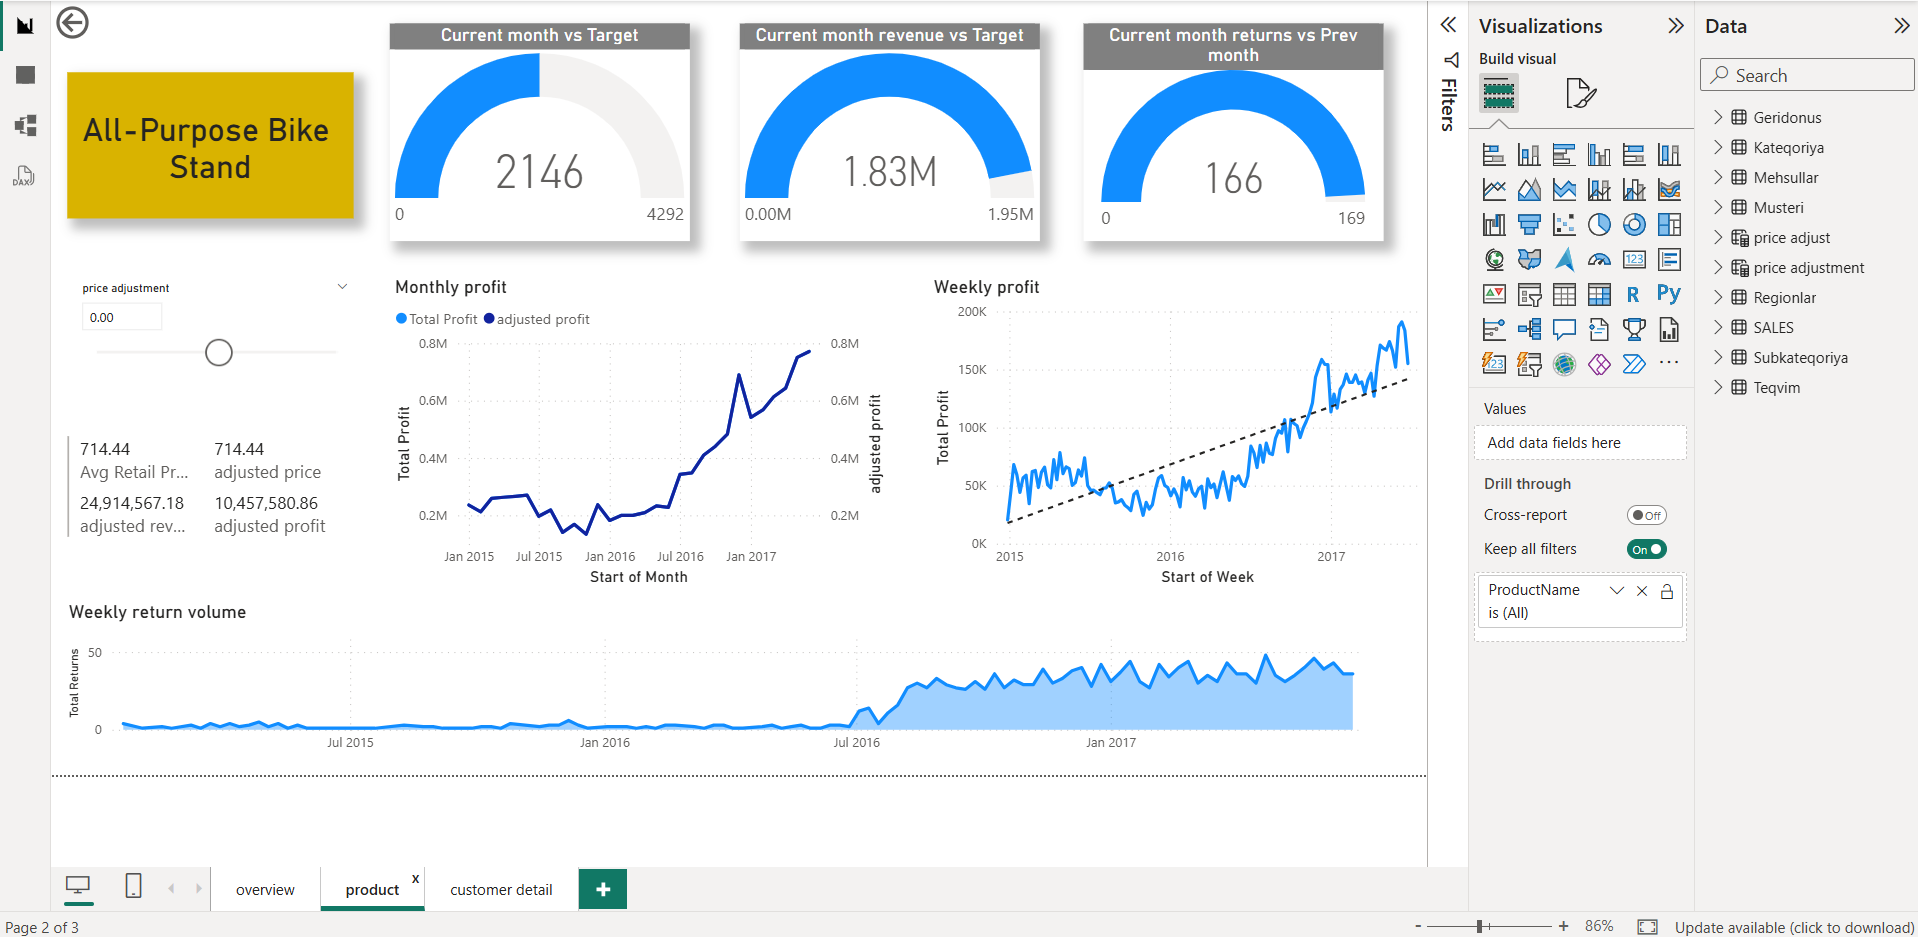

This screenshot's page, from the dashboard's own definition file:
{"tool":"powerbi","page":{"name":"product","canvas":[1280,720],"ordinal":1},"visuals":[{"type":"card","title":"Top Product","fields":{"Values":["Min(Mehsullar.ProductName)"]},"box":[15.3,66.7,266.6,136.1],"z":0},{"type":"gauge","title":"Current month  vs Target","fields":{"Y":["Teqvim.total orders"],"TargetValue":["SALES.Order target"]},"box":[315.2,20.8,279.1,202.7],"z":1000},{"type":"gauge","title":"Current month revenue vs Target","fields":{"MaxValue":["SALES.TARGET REVENUE"],"Y":["SALES.Total Revenue"]},"box":[640.1,20.8,279.1,202.7],"z":2000},{"type":"gauge","title":"Current month returns vs Prev month","fields":{"Y":["Geridonus.Total Returns"],"MaxValue":["Geridonus.Prev Month Returns"]},"box":[960.9,20.8,279.1,202.7],"z":3000},{"type":"slicer","fields":{"Values":["price adjustment.price adjustment"]},"box":[16,256,272,144],"z":4000},{"type":"actionButton","box":[0,0,100,40],"z":5000},{"type":"multiRowCard","fields":{"Values":["Mehsullar.Avg Retail Price","price adjustment.adjusted price","price adjustment.adjusted revenue","price adjustment.adjusted profit"]},"box":[11,399.8,271.1,149.3],"z":6000},{"type":"lineChart","title":"Monthly profit","fields":{"Y":["SALES.Total Profit"],"Y2":["price adjustment.adjusted profit"],"Category":["Teqvim.Start of Month"]},"box":[314.9,256.1,464.2,293],"z":7000},{"type":"lineChart","title":"Weekly profit","fields":{"Category":["Teqvim.Start of Week"],"Y":["SALES.Total Profit"]},"box":[816.1,256.1,464.2,293],"z":8000},{"type":"areaChart","title":"Weekly return volume","fields":{"Category":["Teqvim.Start of Week"],"Y":["Geridonus.Total Returns"]},"box":[11.4,558.6,1228.6,150],"z":9000}]}

Visuals, with their boxes on the page's 1280x720 design canvas (x1, y1, x2, y2). These are canvas units, not pixel positions in the 1918x937 screenshot, which may show the page scaled, cropped or inside an application window:
"Top Product" card: [left=15, top=67, right=282, bottom=203]
"Current month  vs Target" gauge: [left=315, top=21, right=594, bottom=224]
"Current month revenue vs Target" gauge: [left=640, top=21, right=919, bottom=224]
"Current month returns vs Prev month" gauge: [left=961, top=21, right=1240, bottom=224]
slicer - price adjustment.price adjustment: [left=16, top=256, right=288, bottom=400]
actionButton: [left=0, top=0, right=100, bottom=40]
multiRowCard - Mehsullar.Avg Retail Price x price adjustment.adjusted price: [left=11, top=400, right=282, bottom=549]
"Monthly profit" lineChart: [left=315, top=256, right=779, bottom=549]
"Weekly profit" lineChart: [left=816, top=256, right=1280, bottom=549]
"Weekly return volume" areaChart: [left=11, top=559, right=1240, bottom=709]
